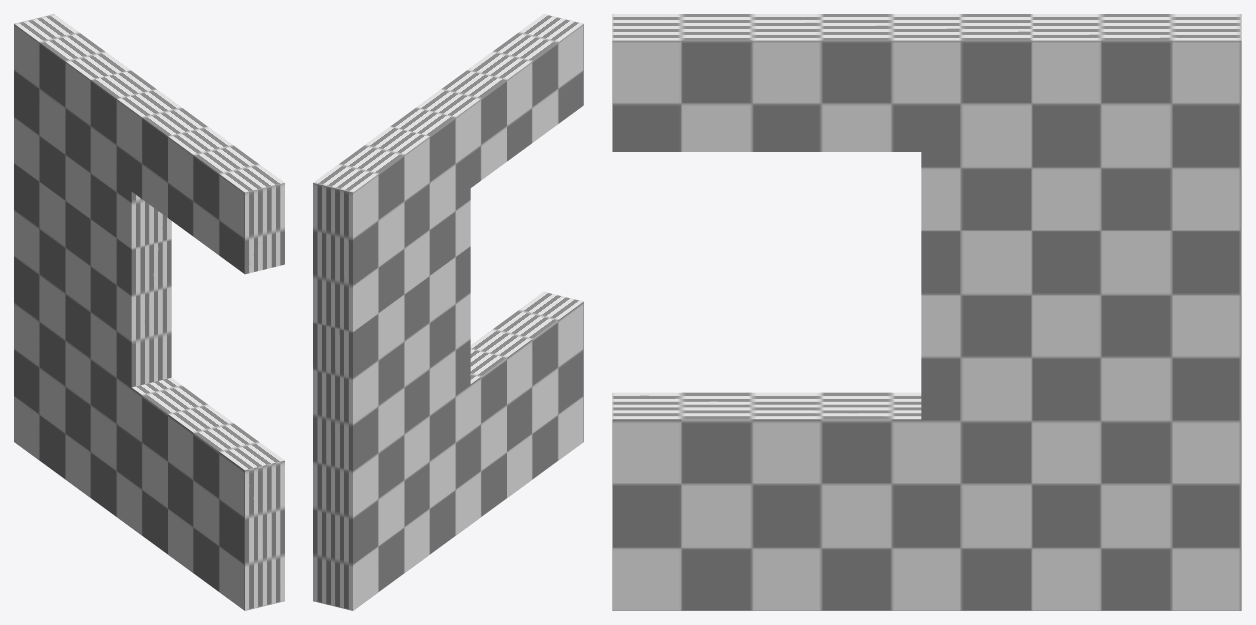
The model's file is BedroomWindow_01.fbx.
The picture shows the model from 3 angles, left to right: view 1: azimuth 30°, elevation 25°; view 2: azimuth 150°, elevation 25°; view 3: azimuth 270°, elevation 25°; orthographic projection. The views are drawn at different scales.
Visible parts, largest first — view 1: BedroomWindow_01; view 2: BedroomWindow_01; view 3: BedroomWindow_01.
Part boxes in pixels (bbox=[...]): BedroomWindow_01: bbox=[14, 14, 284, 610]; BedroomWindow_01: bbox=[313, 14, 583, 610]; BedroomWindow_01: bbox=[612, 14, 1241, 610].
Bounding box in the file's own units: 11.81 × 118 × 118.
Materials: 1 (1 with a texture image).
